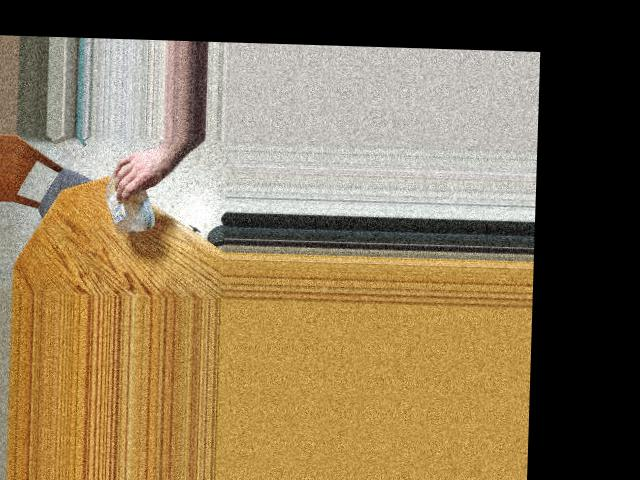cheese: (103, 173, 152, 230)
